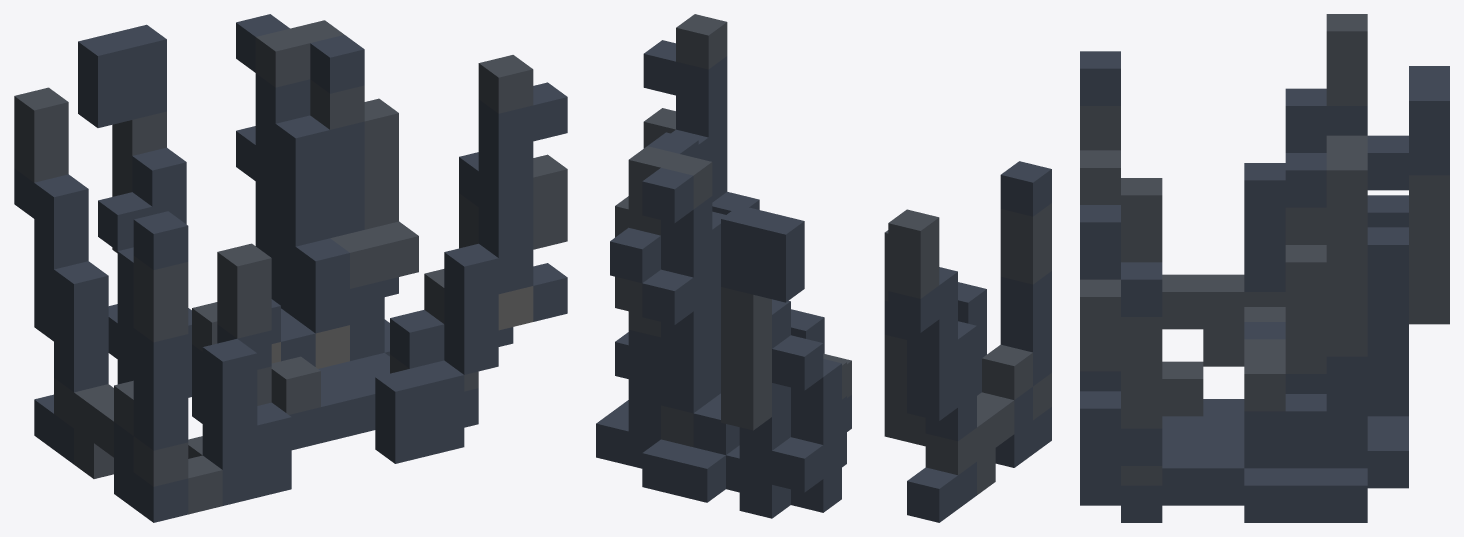
The model's file is lvl2-6.obj.
The picture shows the model from 3 angles, left to right: view 1: azimuth 30°, elevation 25°; view 2: azimuth 150°, elevation 25°; view 3: azimuth 270°, elevation 25°; orthographic projection. The views are drawn at different scales.
Size of the model in its own units: 1.2 by 1 by 0.9.
Materials: 1 (1 with a texture image).
